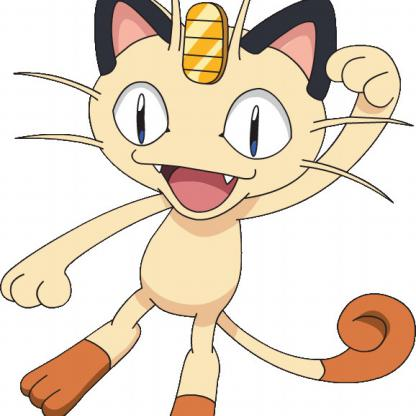Meowth: (1, 1, 416, 416)
